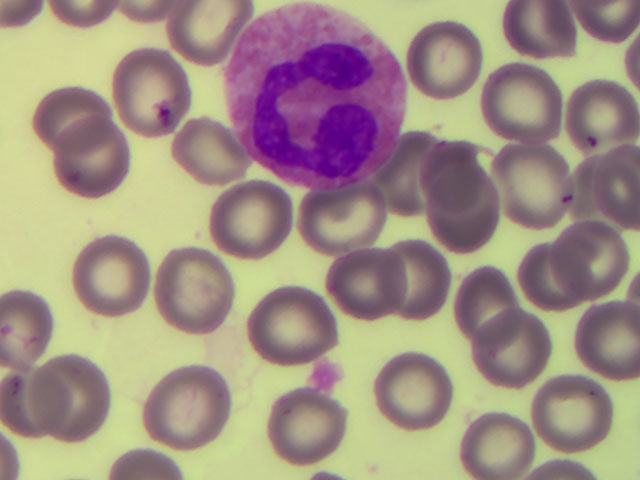Platelets: (311, 359, 342, 389)
RBC: (31, 357, 114, 446), (108, 51, 193, 137), (152, 248, 233, 337), (141, 367, 226, 451), (369, 350, 453, 431), (214, 178, 293, 262), (405, 13, 479, 102), (531, 370, 610, 451), (250, 286, 335, 361), (491, 147, 569, 227), (57, 117, 129, 203), (453, 260, 520, 351), (270, 391, 350, 466), (74, 238, 149, 316), (31, 85, 110, 159), (456, 410, 539, 480), (428, 167, 496, 252), (485, 66, 561, 142), (564, 75, 638, 152), (550, 226, 628, 298), (477, 311, 548, 390), (298, 189, 385, 253), (383, 240, 451, 321), (1, 367, 74, 441), (331, 250, 408, 318), (173, 118, 241, 188), (579, 302, 640, 379), (424, 141, 490, 210), (568, 156, 625, 235), (502, 1, 579, 58), (397, 136, 450, 218), (168, 1, 233, 67), (1, 293, 51, 372), (594, 145, 640, 230), (568, 1, 636, 41), (108, 451, 183, 480), (46, 1, 125, 24), (535, 456, 604, 480), (1, 1, 55, 29), (110, 1, 170, 25), (620, 31, 640, 96)
WBC: (229, 4, 406, 180)
